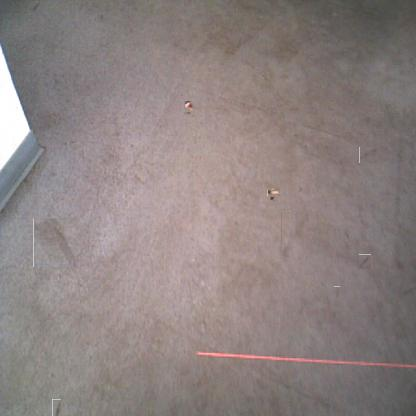dirty: (183, 102, 193, 114), (269, 189, 278, 198)
mark: (33, 217, 76, 267), (281, 209, 309, 257), (359, 147, 378, 163), (401, 284, 415, 298), (359, 255, 372, 269), (52, 399, 61, 416), (30, 1, 42, 11), (334, 286, 340, 299), (344, 228, 350, 240), (297, 185, 304, 195), (100, 12, 106, 22)
